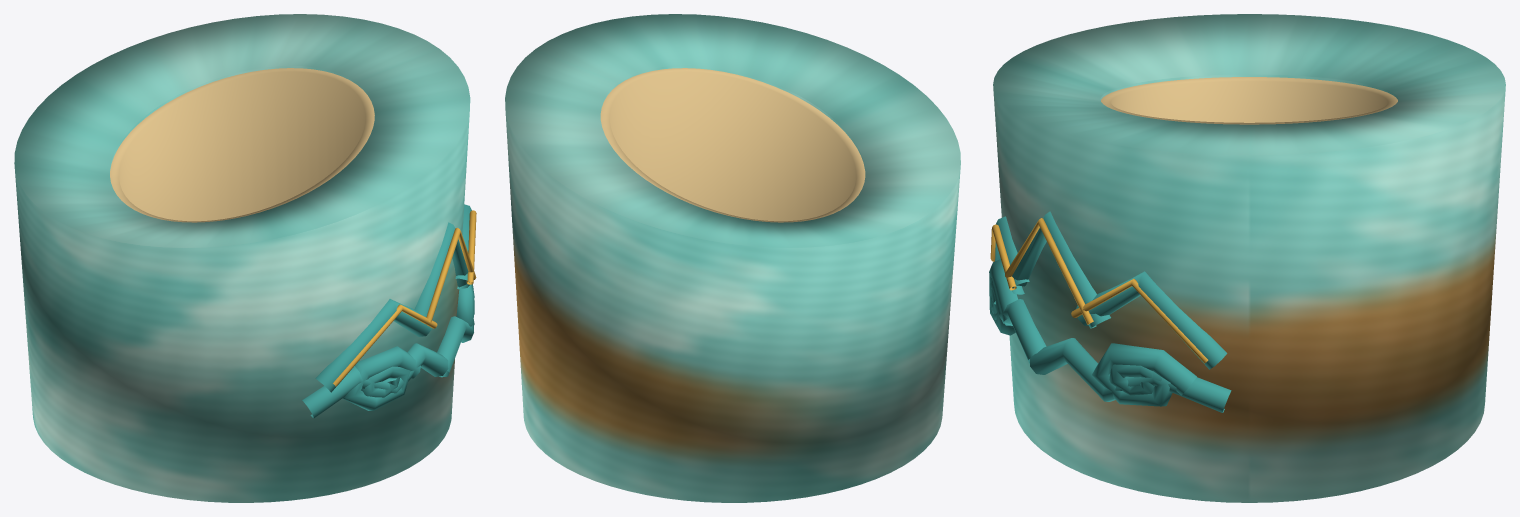
Rendered from banzhi.fbx.
3 views of the same model, side by side, from view 1: azimuth 30°, elevation 25°; view 2: azimuth 150°, elevation 25°; view 3: azimuth 270°, elevation 25° (orthographic). The views are drawn at different scales.
Parts seen in each view (by area): view 1: celadon-sloped-thumb-ring-body, warm-gold-inner-liner, broad-mountain-cloud-relief, restrained-worn-gold-ridges; view 2: celadon-sloped-thumb-ring-body, warm-gold-inner-liner; view 3: celadon-sloped-thumb-ring-body, broad-mountain-cloud-relief, warm-gold-inner-liner, restrained-worn-gold-ridges.
Boxes of the visible parts, bbox=[...] form: celadon-sloped-thumb-ring-body: bbox=[14, 14, 470, 502]; warm-gold-inner-liner: bbox=[110, 68, 374, 222]; broad-mountain-cloud-relief: bbox=[302, 204, 474, 418]; restrained-worn-gold-ridges: bbox=[333, 210, 476, 386]; celadon-sloped-thumb-ring-body: bbox=[505, 14, 960, 502]; warm-gold-inner-liner: bbox=[600, 68, 865, 222]; celadon-sloped-thumb-ring-body: bbox=[993, 14, 1505, 502]; broad-mountain-cloud-relief: bbox=[989, 211, 1231, 412]; warm-gold-inner-liner: bbox=[1101, 77, 1397, 124]; restrained-worn-gold-ridges: bbox=[990, 218, 1208, 363].
Bounding box in the file's own units: 99.55 × 76.15 × 100.
